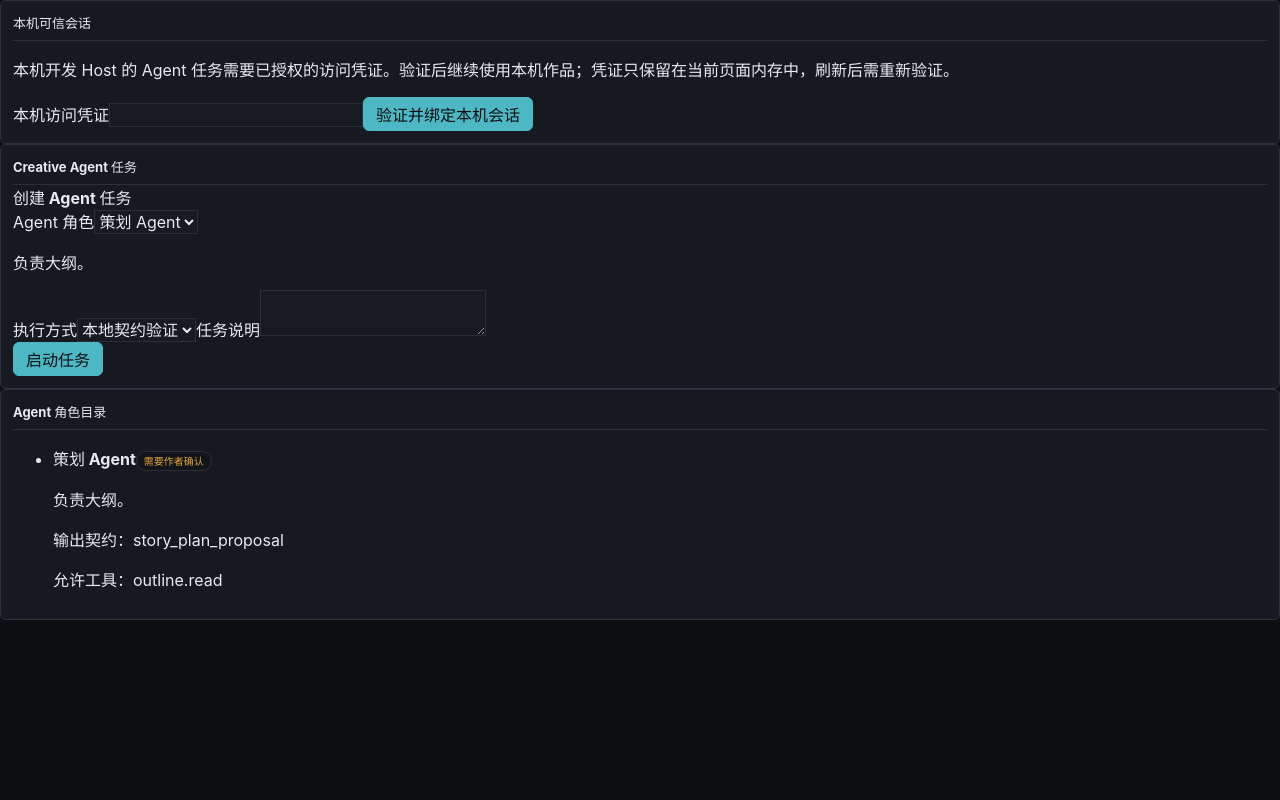
Scenario: agent job controls › creates and starts a job for the selected chapter
This screenshot has width=1280, height=800.
Type "规划第二幕" into the text box labelled "任务说明". click: (373, 313)
box: [260, 290, 486, 336]
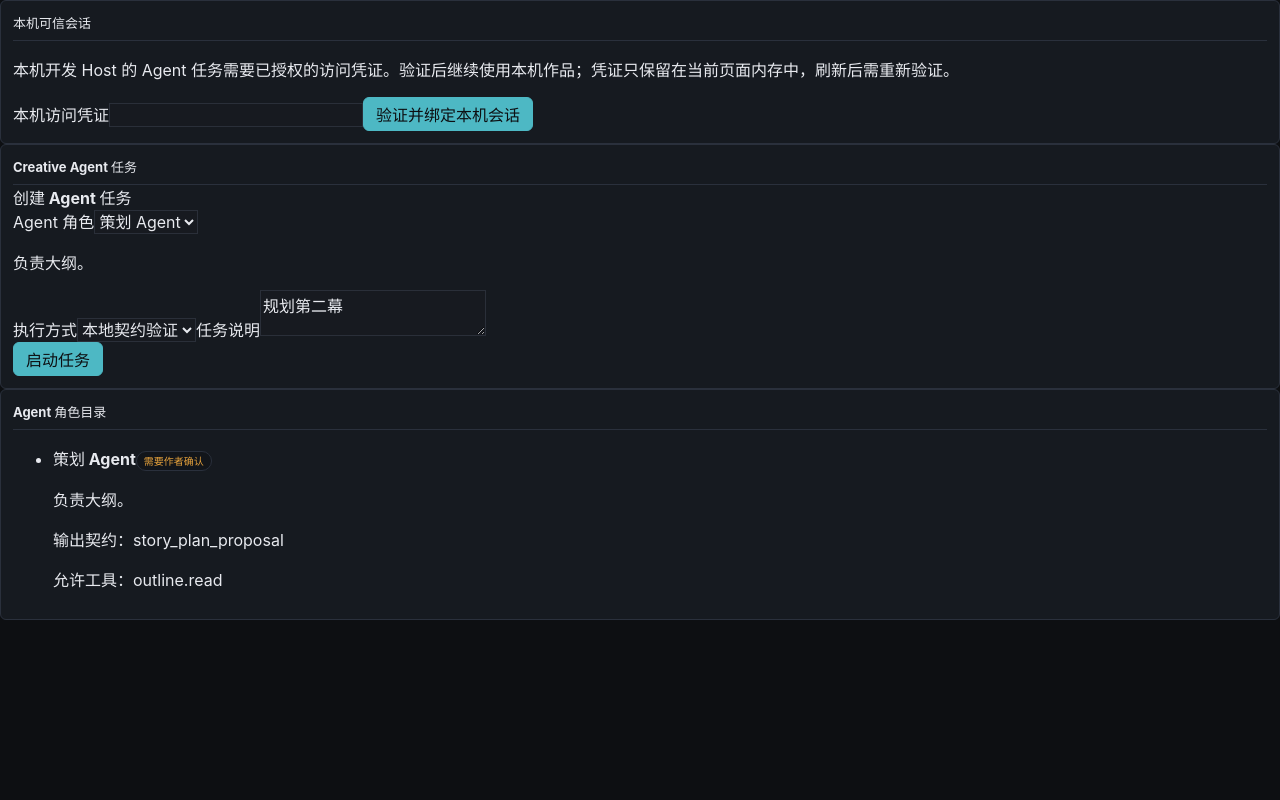
Click the button "启动任务". click: (58, 359)
box: [13, 342, 103, 376]
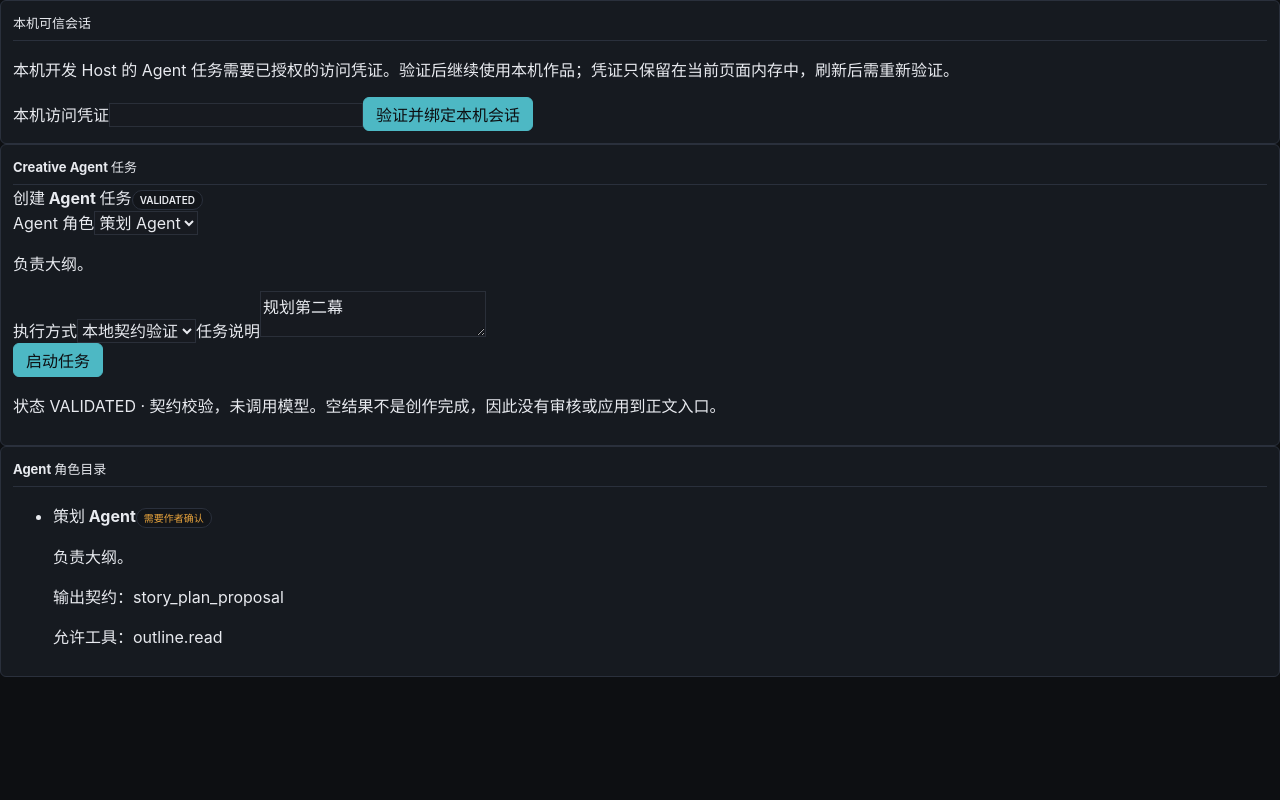
Now the text "状态 VALIDATED · 契约校验，未调用模型。空结果不是创作完成，因此没有审核或应用到正文入口。" is shown, box [13, 396, 726, 416]
